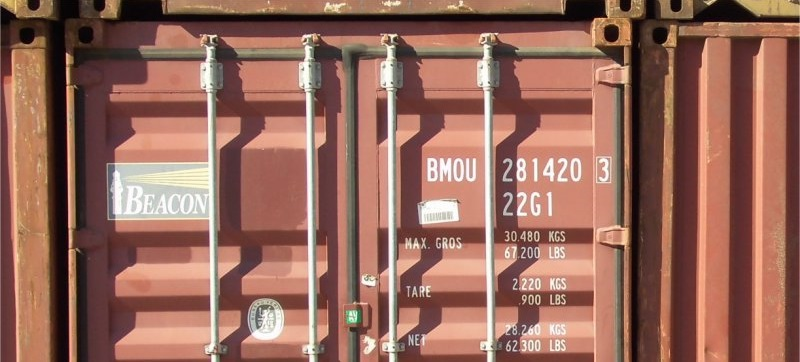container_door: (66, 21, 632, 361)
